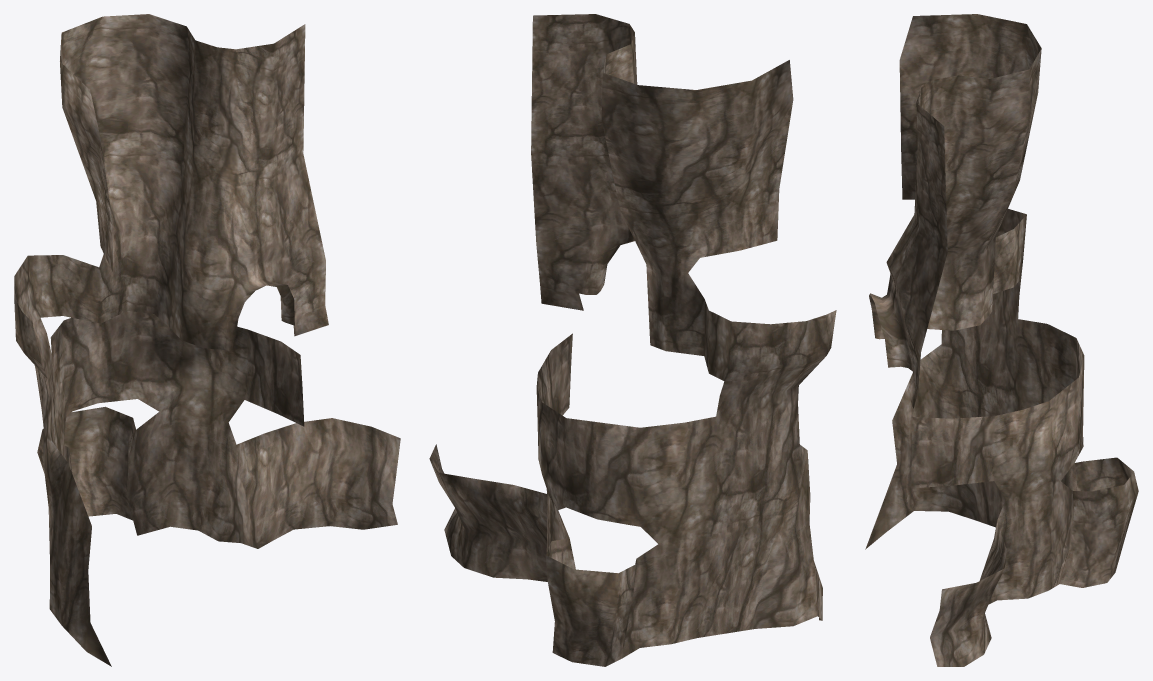
File: EKH_GROTTO_PS_GR_BIG_WALL_02.fbx
3 views of the same model, side by side, from view 1: azimuth 30°, elevation 25°; view 2: azimuth 150°, elevation 25°; view 3: azimuth 270°, elevation 25° (orthographic). The views are drawn at different scales.
Parts seen in each view (by area): view 1: EKH_GROTTO_PS_GR_BIG_WALL_02; view 2: EKH_GROTTO_PS_GR_BIG_WALL_02; view 3: EKH_GROTTO_PS_GR_BIG_WALL_02.
Part boxes in pixels (box(x1,y1,x2,y2)): EKH_GROTTO_PS_GR_BIG_WALL_02: box(14, 14, 400, 666); EKH_GROTTO_PS_GR_BIG_WALL_02: box(429, 14, 836, 666); EKH_GROTTO_PS_GR_BIG_WALL_02: box(865, 14, 1138, 666).
Size of the model in its own units: 116952 by 167279 by 76569.
1 material, 1 textured.
